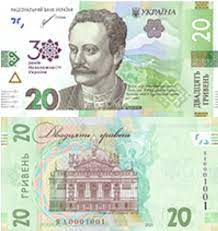bn_20: (3, 3, 218, 118), (0, 119, 218, 231)
